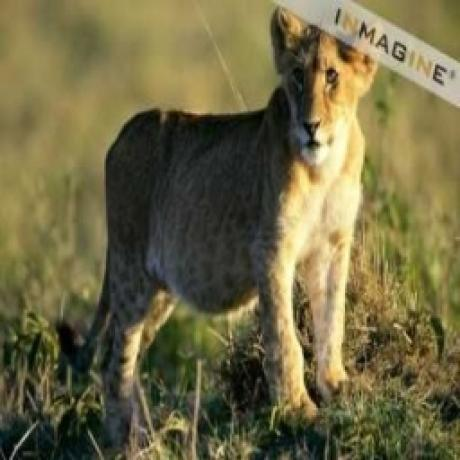Lion: (54, 3, 383, 452)
